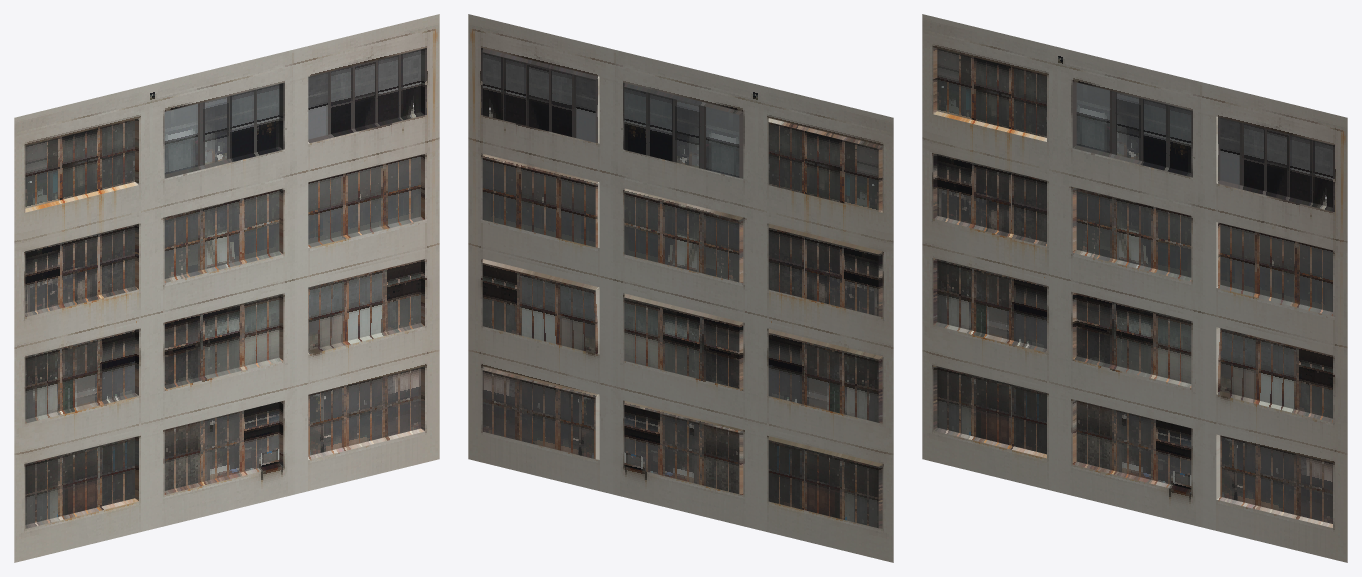
File: IndustrialBuilding.glb
3 views of the same model, side by side, from view 1: azimuth 30°, elevation 25°; view 2: azimuth 150°, elevation 25°; view 3: azimuth 330°, elevation 25° (orthographic).
Parts seen in each view (by area): view 1: IndustrialBuildingFront; view 2: IndustrialBuildingFront; view 3: IndustrialBuildingFront.
Part boxes in pixels (x1,y1,x2,y2): IndustrialBuildingFront: (14,14,439,562); IndustrialBuildingFront: (468,14,893,562); IndustrialBuildingFront: (922,14,1347,562).
Size of the model in its own units: 8 by 8 by 0.0712.
1 material, 1 textured.
